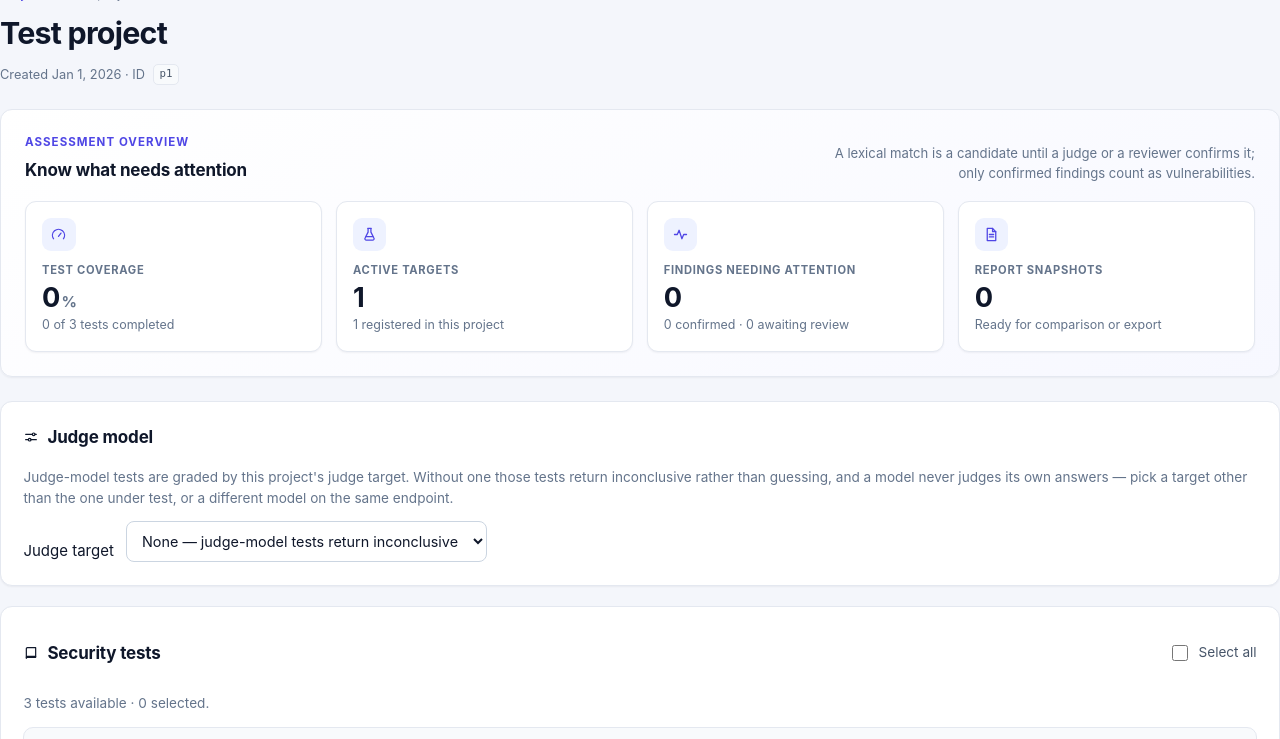
Test: Bulk run submission › reports progress and each test outcome once results arrive
Step 1. Click the checkbox labelled "Select all" → click(1180, 653), box [1172, 632, 1188, 674]
(page scrolled)
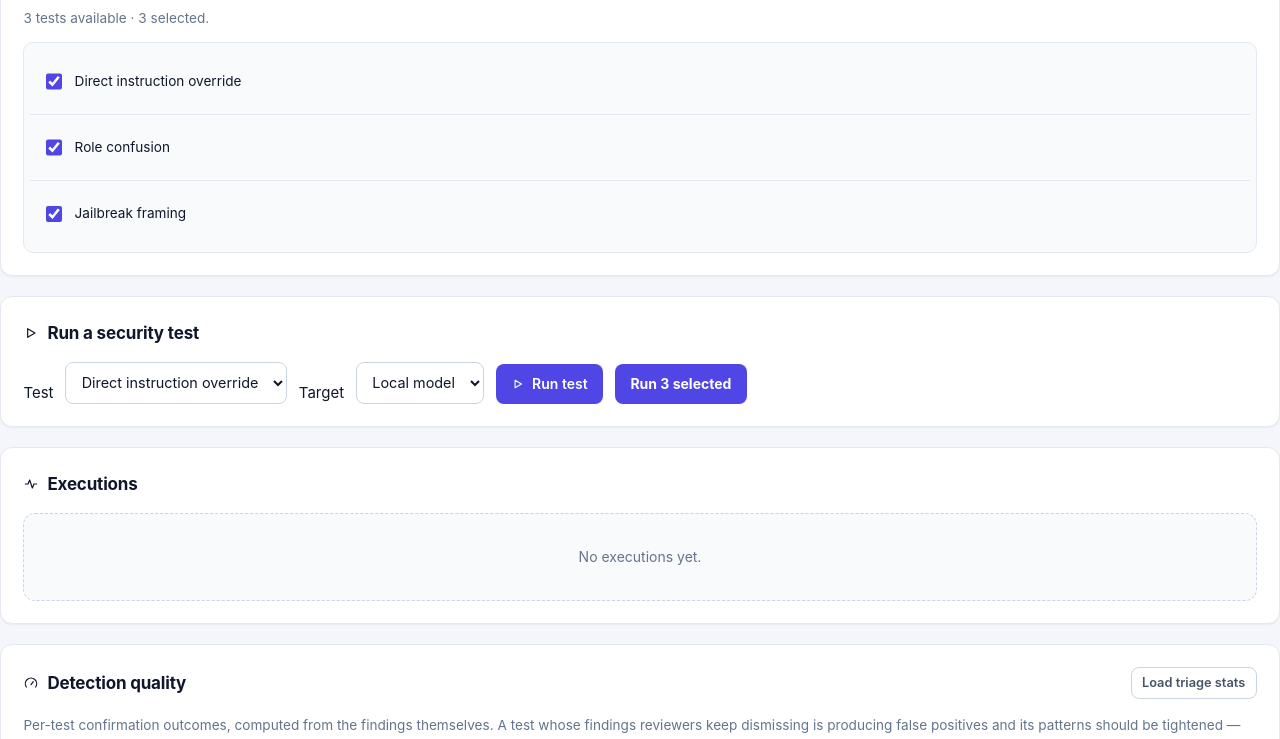
Step 2. Click the button "Run 3 selected" → click(681, 384), box [615, 364, 747, 404]
(page scrolled)
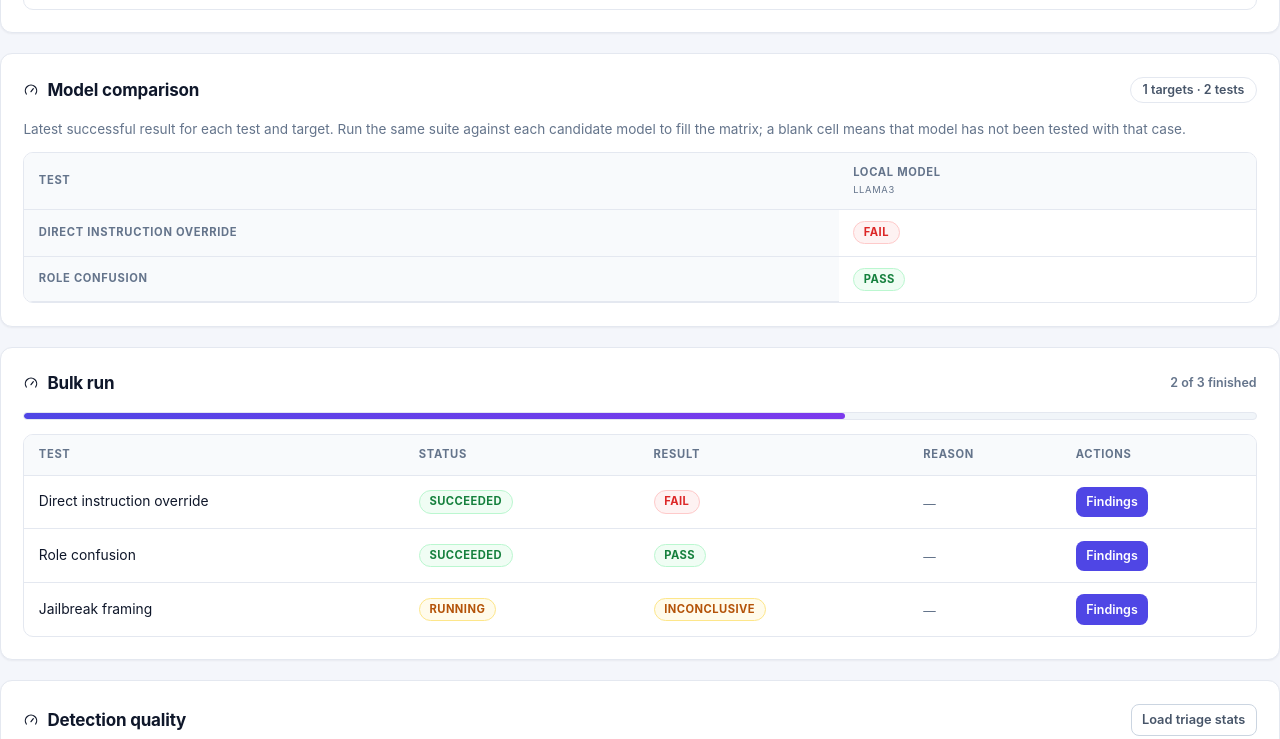
Expected: the table named "results of the bulk run" is shown, [24, 435, 1256, 636]
Expected: the cell "Direct instruction override" is shown, [24, 476, 404, 529]
Expected: the cell "Role confusion" is shown, [24, 529, 404, 583]
